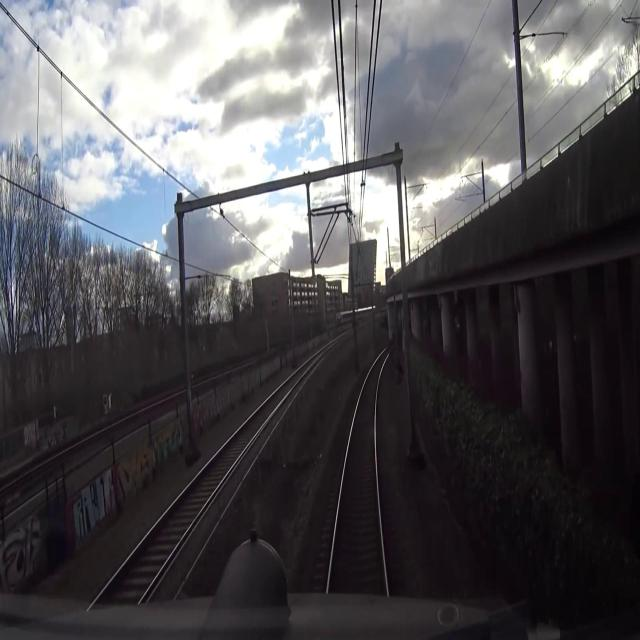rail-track: (96, 360, 312, 606), (331, 350, 388, 591)
